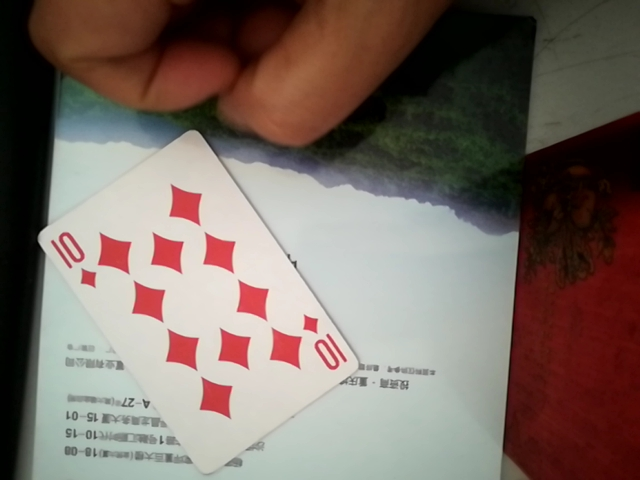fk 10: (34, 120, 362, 461)
